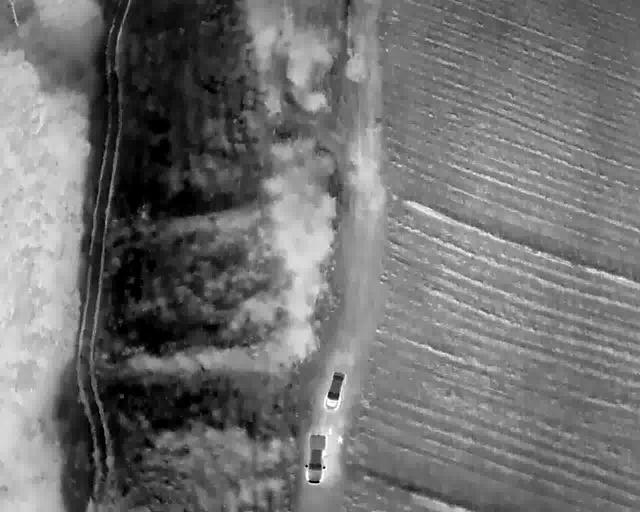car: (304, 433, 325, 484), (326, 369, 343, 411)
person: (337, 435, 343, 444), (327, 428, 332, 436)
